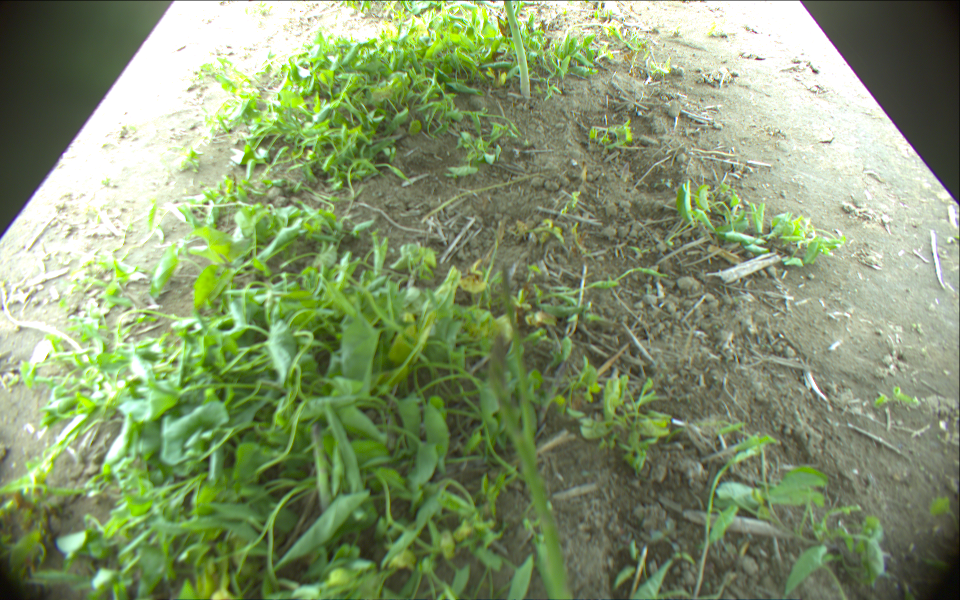aspa: (484, 337, 582, 600), (501, 269, 547, 463), (306, 421, 347, 521), (498, 1, 534, 98)
